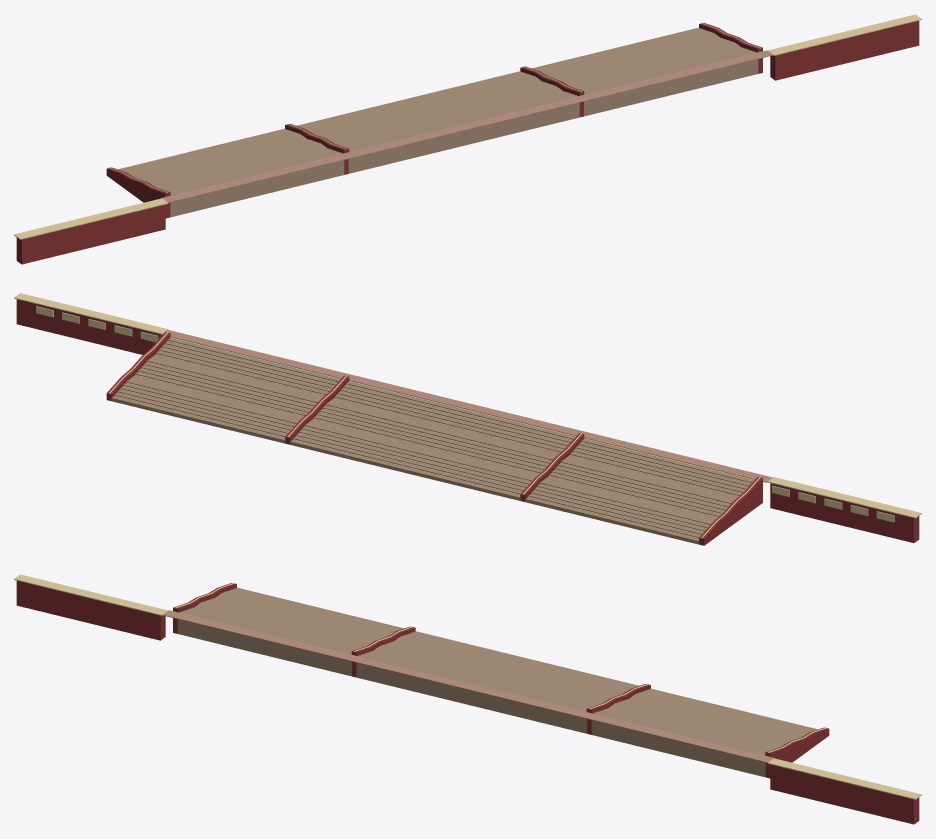
Rendered from KOL_T1_DAKSHINESHWAR__11_Ghat.fbx.
3 views of the same model, one above another, from view 1: azimuth 30°, elevation 25°; view 2: azimuth 150°, elevation 25°; view 3: azimuth 330°, elevation 25° (orthographic).
Parts seen in each view (by area): view 1: KOL_T1_DAKSHINESHWAR__11_Ghat__KOL_T1_TempleStone, KOL_T1_DAKSHINESHWAR__11_Ghat__KOL_T1_TempleRed, KOL_T1_DAKSHINESHWAR__11_Ghat__KOL_T1_TemplePaving, KOL_T1_DAKSHINESHWAR__11_Ghat__KOL_T1_TempleCream; view 2: KOL_T1_DAKSHINESHWAR__11_Ghat__KOL_T1_TempleStone, KOL_T1_DAKSHINESHWAR__11_Ghat__KOL_T1_TempleCream, KOL_T1_DAKSHINESHWAR__11_Ghat__KOL_T1_TempleRed, KOL_T1_DAKSHINESHWAR__11_Ghat__KOL_T1_TemplePaving; view 3: KOL_T1_DAKSHINESHWAR__11_Ghat__KOL_T1_TempleStone, KOL_T1_DAKSHINESHWAR__11_Ghat__KOL_T1_TempleRed, KOL_T1_DAKSHINESHWAR__11_Ghat__KOL_T1_TemplePaving, KOL_T1_DAKSHINESHWAR__11_Ghat__KOL_T1_TempleCream.
Boxes of the visible parts, bbox=[...] form: KOL_T1_DAKSHINESHWAR__11_Ghat__KOL_T1_TempleStone: bbox=[118, 27, 758, 217]; KOL_T1_DAKSHINESHWAR__11_Ghat__KOL_T1_TempleRed: bbox=[16, 20, 919, 264]; KOL_T1_DAKSHINESHWAR__11_Ghat__KOL_T1_TemplePaving: bbox=[161, 50, 773, 202]; KOL_T1_DAKSHINESHWAR__11_Ghat__KOL_T1_TempleCream: bbox=[14, 14, 921, 239]; KOL_T1_DAKSHINESHWAR__11_Ghat__KOL_T1_TempleStone: bbox=[111, 338, 753, 544]; KOL_T1_DAKSHINESHWAR__11_Ghat__KOL_T1_TempleCream: bbox=[14, 293, 921, 538]; KOL_T1_DAKSHINESHWAR__11_Ghat__KOL_T1_TempleRed: bbox=[16, 299, 919, 545]; KOL_T1_DAKSHINESHWAR__11_Ghat__KOL_T1_TemplePaving: bbox=[161, 330, 772, 482]; KOL_T1_DAKSHINESHWAR__11_Ghat__KOL_T1_TempleStone: bbox=[177, 587, 817, 777]; KOL_T1_DAKSHINESHWAR__11_Ghat__KOL_T1_TempleRed: bbox=[16, 580, 919, 824]; KOL_T1_DAKSHINESHWAR__11_Ghat__KOL_T1_TemplePaving: bbox=[162, 610, 774, 762]; KOL_T1_DAKSHINESHWAR__11_Ghat__KOL_T1_TempleCream: bbox=[14, 574, 921, 799].
Size of the model in its own units: 414 by 13.44 by 52.35.
